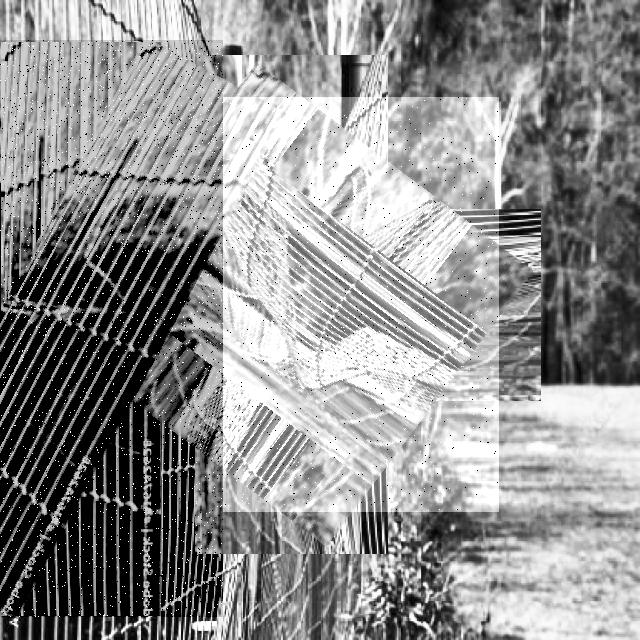anomaly-fence: (84, 97, 499, 512)
fences: (0, 40, 223, 617)
